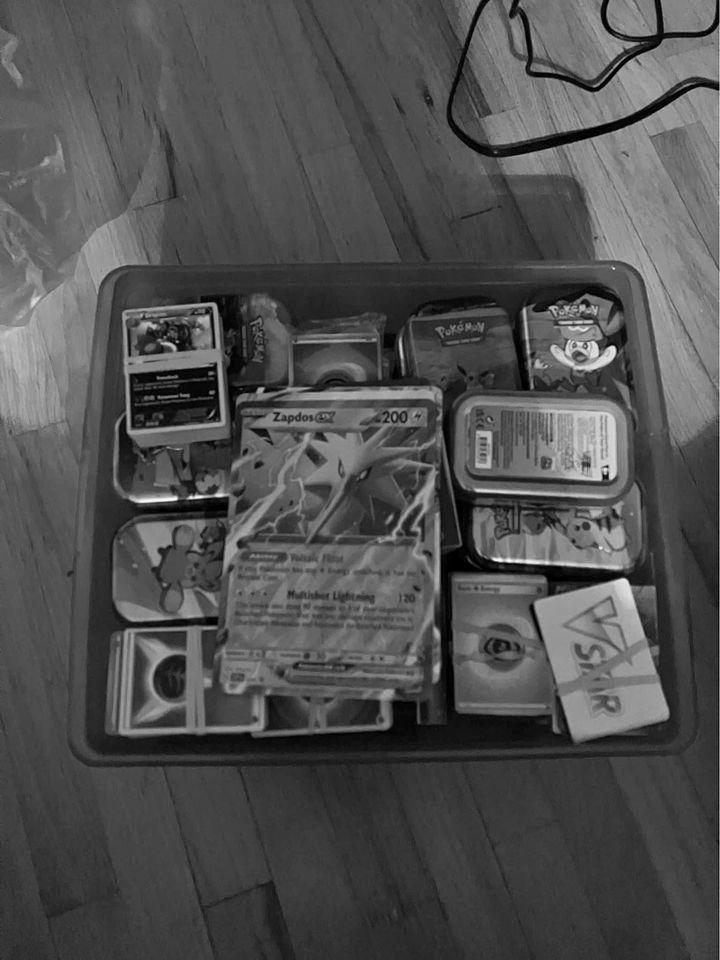card: (213, 398, 436, 702), (118, 624, 265, 736), (451, 573, 555, 715), (121, 302, 225, 433), (287, 331, 383, 385)
